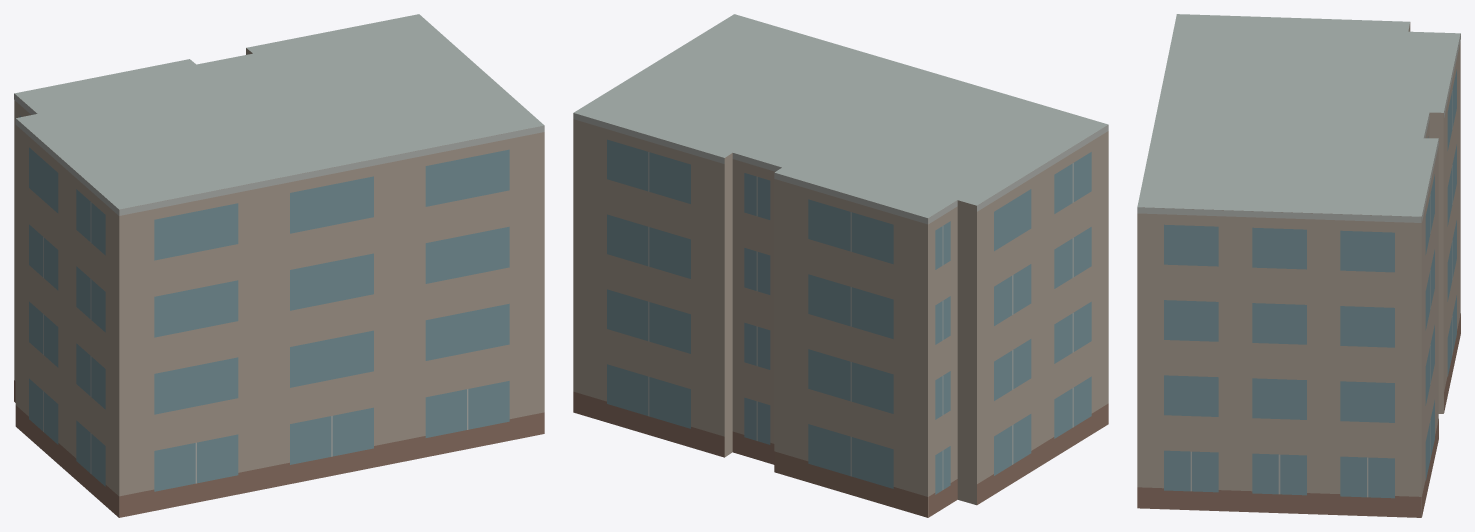
Rendered from survey-upis-32663432.glb.
3 views of the same model, side by side, from view 1: azimuth 30°, elevation 25°; view 2: azimuth 150°, elevation 25°; view 3: azimuth 270°, elevation 25° (orthographic). The views are drawn at different scales.
Parts seen in each view (by area): view 1: survey-upis-32663432.tmp; view 2: survey-upis-32663432.tmp; view 3: survey-upis-32663432.tmp.
Part boxes in pixels (x1,y1,x2,y2): survey-upis-32663432.tmp: [14, 14, 544, 517]; survey-upis-32663432.tmp: [573, 14, 1108, 517]; survey-upis-32663432.tmp: [1137, 14, 1460, 517].
Bounding box in the file's own units: 16.91 × 11.7 × 11.4.
